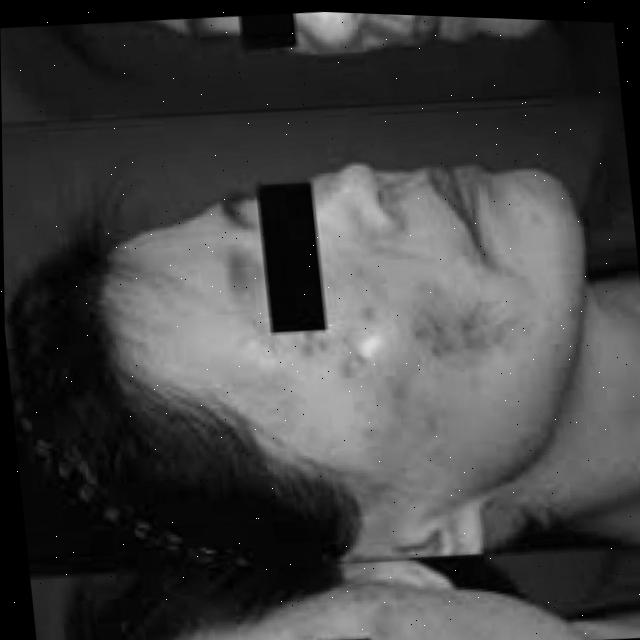Rosacea: (315, 288, 512, 445)
